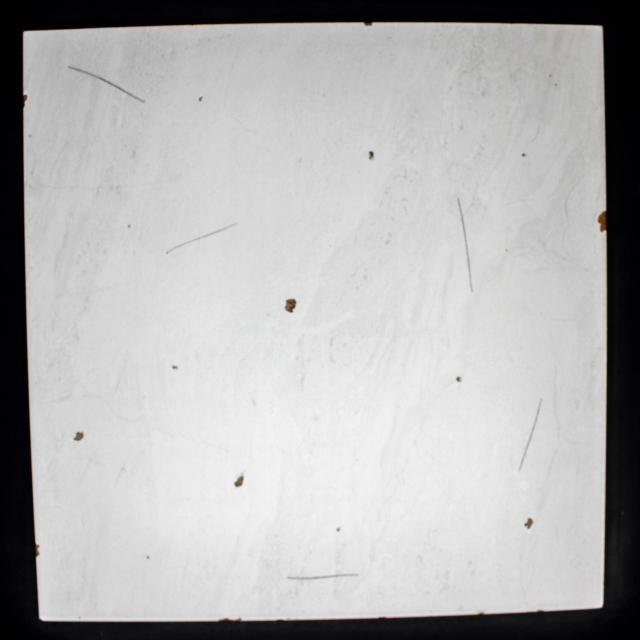edge-chipping: (597, 210, 608, 234), (218, 616, 242, 622), (22, 93, 28, 108), (35, 543, 41, 558), (363, 22, 374, 28)
hole: (284, 297, 297, 314), (233, 474, 245, 488), (72, 430, 85, 442), (524, 517, 534, 530), (368, 150, 376, 161), (454, 375, 462, 383), (198, 94, 203, 103), (520, 152, 527, 158), (171, 365, 179, 370), (335, 526, 341, 532)
line: (455, 196, 474, 294), (106, 81, 146, 104), (165, 237, 202, 255), (204, 221, 240, 238), (68, 66, 105, 82), (286, 573, 360, 581), (518, 434, 532, 472), (532, 398, 544, 432)
